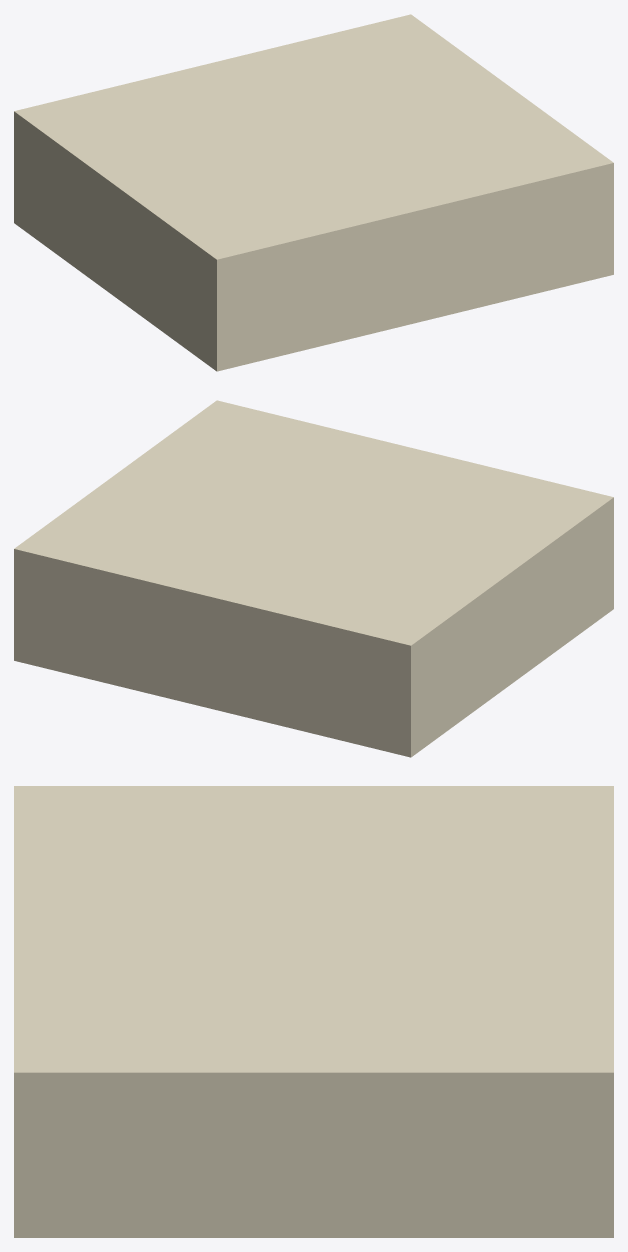
Rendered from testScene_dof.dae.
The picture shows the model from 3 angles, top to bottom: view 1: azimuth 30°, elevation 25°; view 2: azimuth 150°, elevation 25°; view 3: azimuth 270°, elevation 25°; orthographic projection. The views are drawn at different scales.
Visible parts, largest first — view 1: Plane_010; view 2: Plane_010; view 3: Plane_010.
Boxes of the visible parts, x1,y1,x2,y2 form: Plane_010: (14, 14, 613, 371); Plane_010: (14, 400, 613, 757); Plane_010: (14, 786, 613, 1237).
Size of the model in its own units: 10.97 by 9.71 by 2.95.
